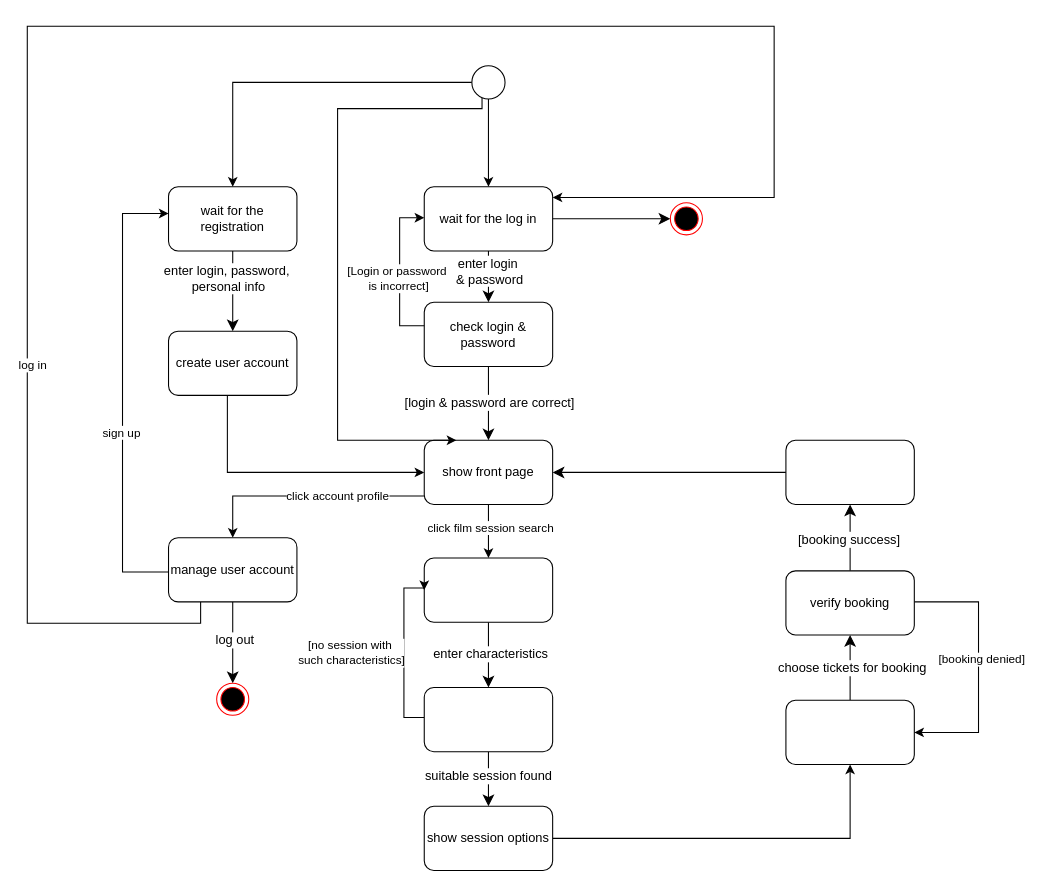
This 1043x889 diagram has some shape labels left out. The box of each missing label's shape, as (x1, y1, x2, y2) in pixels:
finish booking: (785, 439, 914, 505)
verify the characteristics: (423, 686, 553, 752)
wait for characteristics: (423, 557, 553, 622)
wait for the booking: (785, 699, 914, 765)
